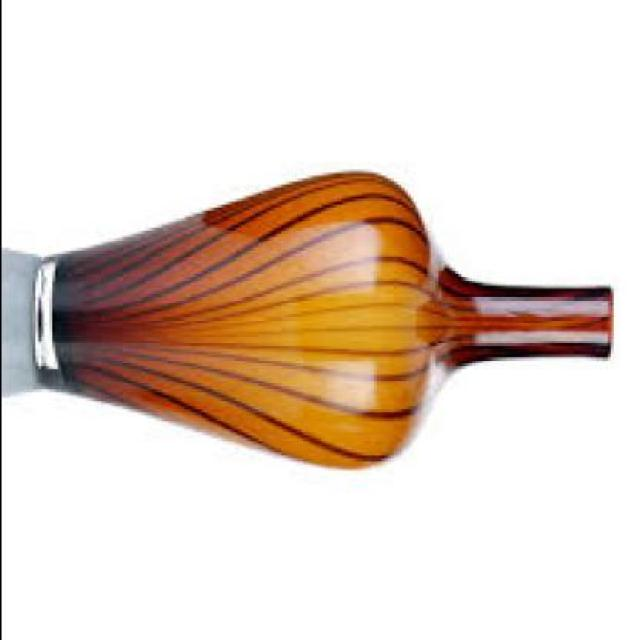glass: (31, 170, 615, 468)
